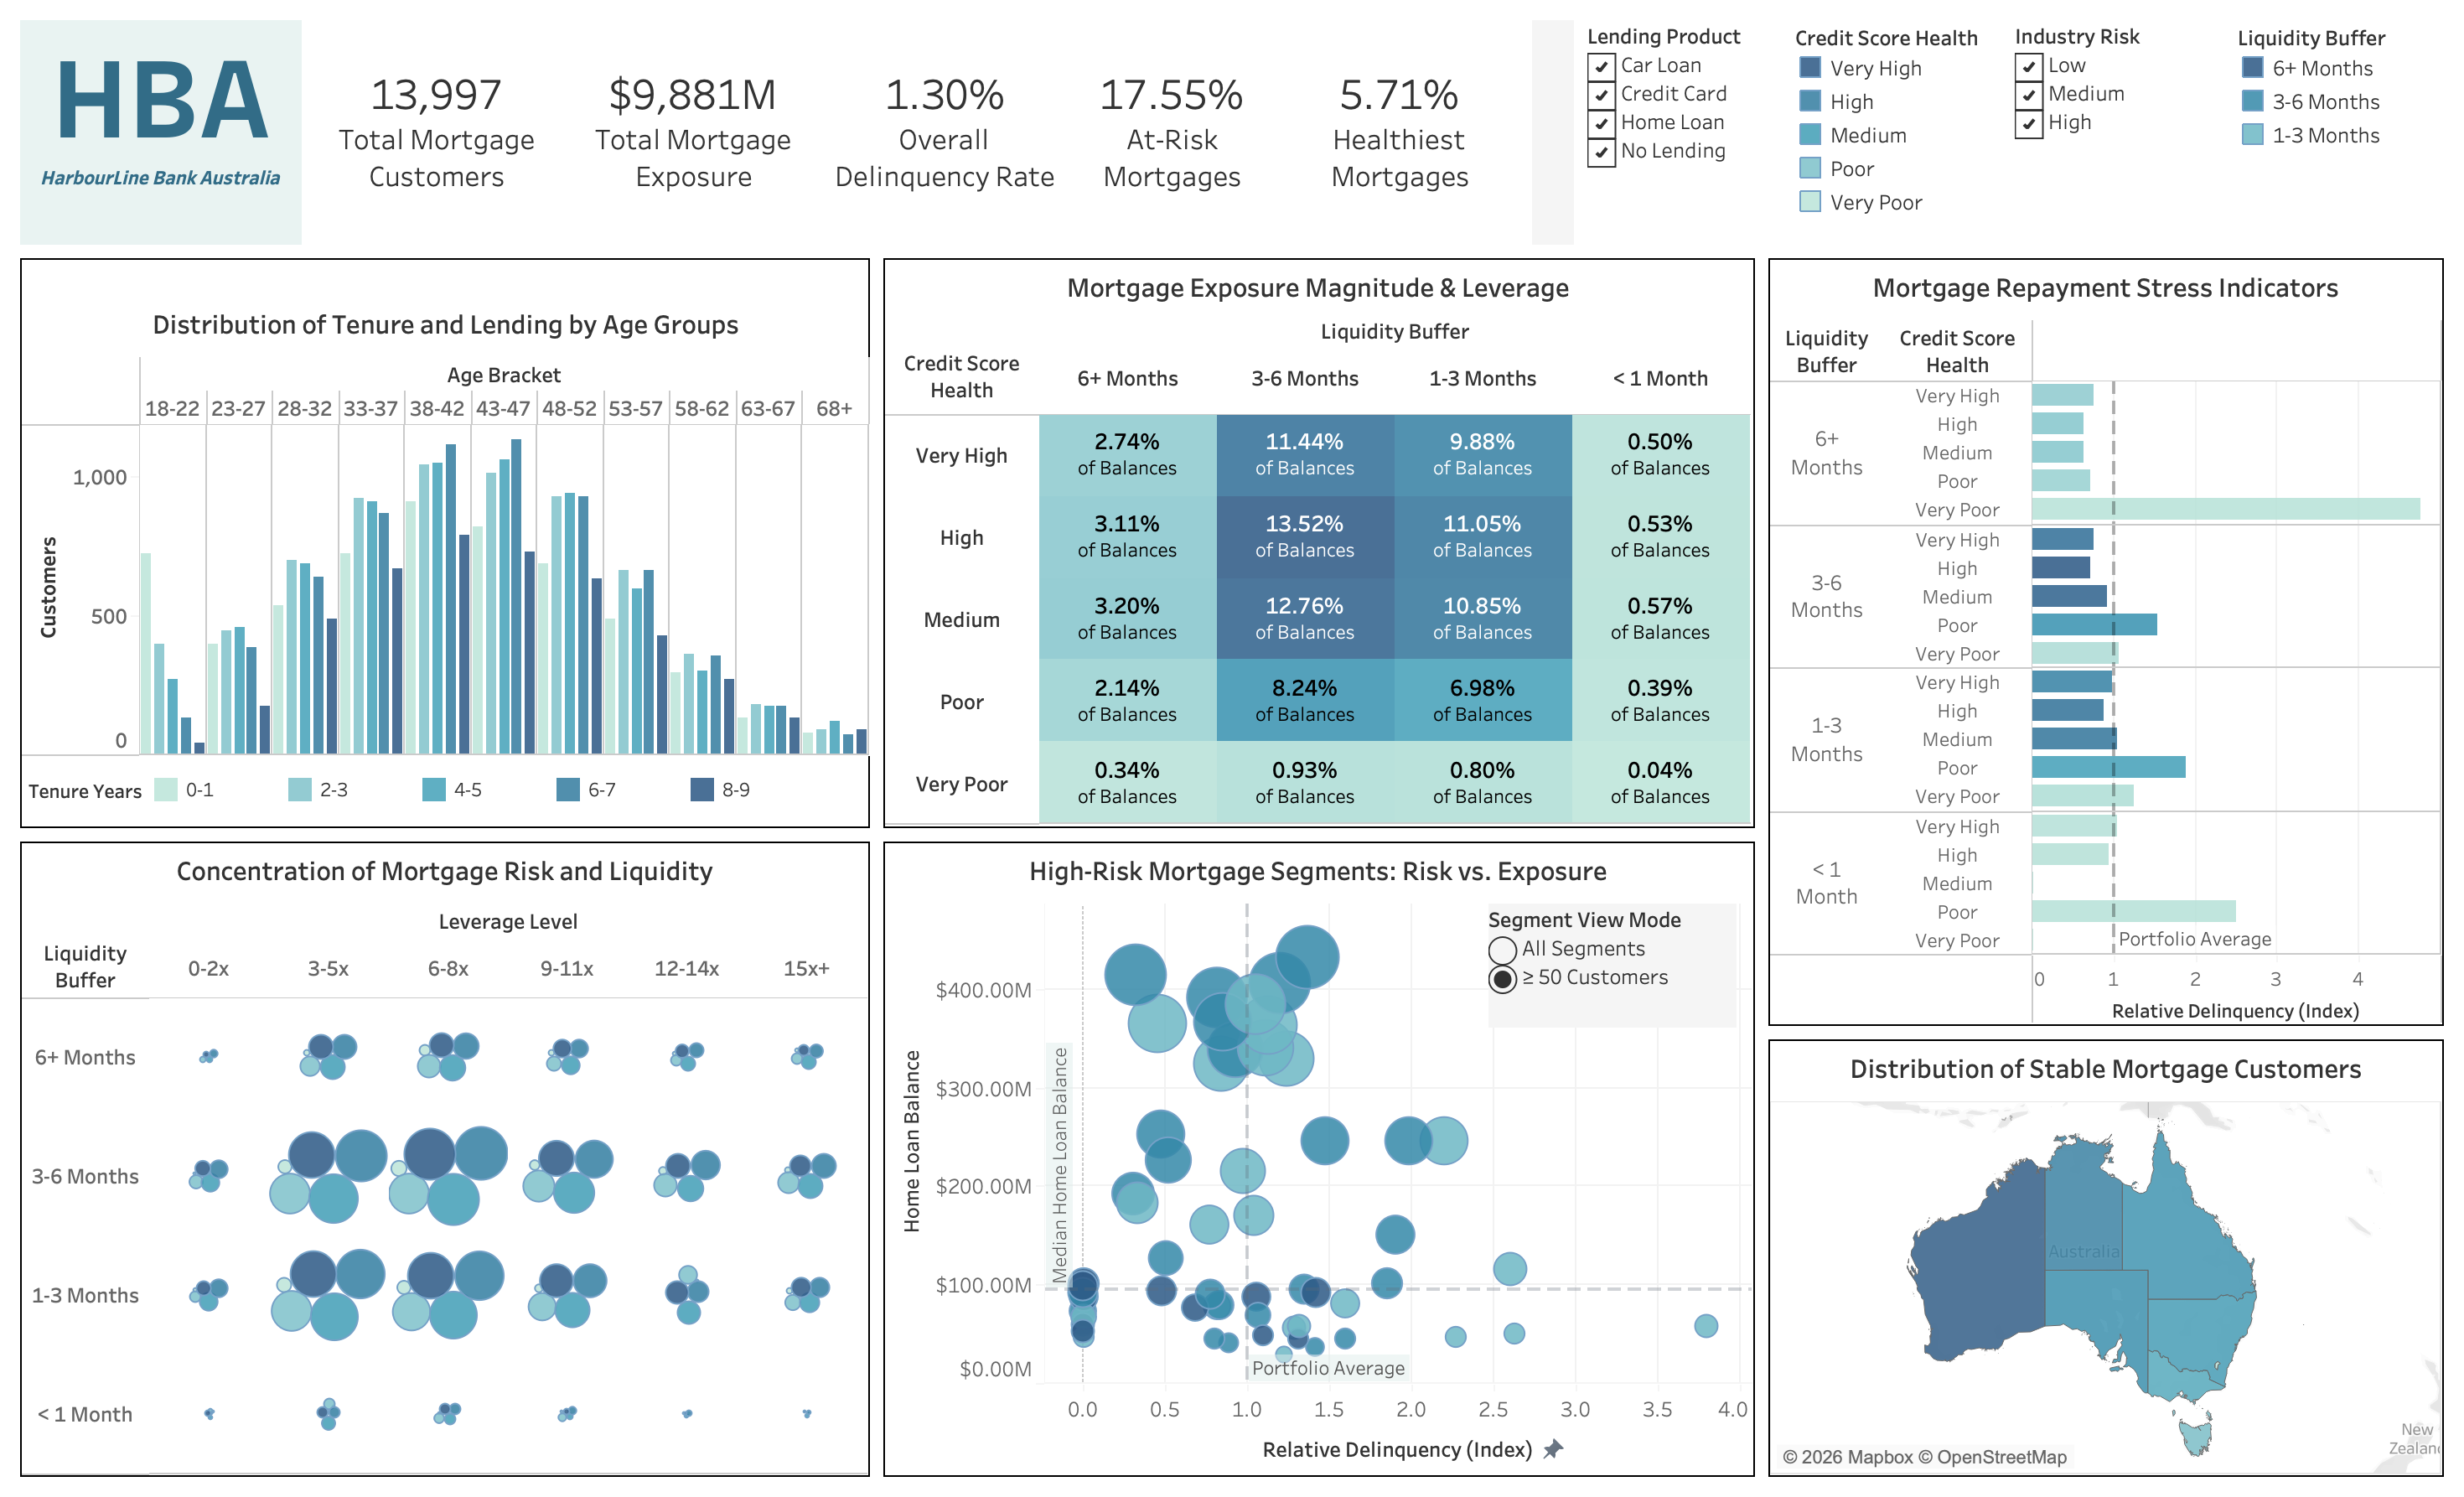

What the dashboard file says about the page in this screenshot:
{"tool":"tableau","page":{"name":"Dashboard 1","canvas":[1000,1000],"units":"permille","ordinal":0},"visuals":[{"type":"text","box":[5.5,11.2,119.9,175.8]},{"type":"worksheet","title":"Mortgage Customers","mark":"Automatic","box":[125.4,11.2,104.6,175.8]},{"type":"worksheet","title":"Total Mortgage Exposure","mark":"Automatic","box":[229.9,11.2,103.2,175.8]},{"type":"worksheet","title":"Overall Delinquency Rate","mark":"Automatic","box":[333.1,11.2,101.8,175.8]},{"type":"worksheet","title":"Risky","mark":"Automatic","box":[434.9,11.2,83.1,175.8]},{"type":"worksheet","title":"Stable Mortgage Customers","mark":"Automatic","box":[518,11.2,101.1,175.8]},{"type":"blank","box":[619.1,11.2,22.2,175.8]},{"type":"filter","title":"Distribution of Tenure and Lending by Age Groups","param":"[federated.0hi237i01j10bz194o49j176vj2p].[none:Calculation_5779406893178881:nk]","box":[641.2,11.2,83.8,175.8]},{"type":"legend","title":"Concentration of Mortgage Risk and Liquidity","param":"[federated.0hi237i01j10bz194o49j176vj2p].[none:Calculation_6729592075571200:nk]","box":[725,11.2,89.8,175.8]},{"type":"filter","title":"High-Risk Mortgage Segments: Risk vs. Exposure","param":"[federated.0hi237i01j10bz194o49j176vj2p].[none:Industry Risk:ok]","box":[814.8,11.2,89.8,175.8]},{"type":"legend","title":"High-Risk Mortgage Segments: Risk vs. Exposure","param":"[federated.0hi237i01j10bz194o49j176vj2p].[none:Calculation_6729592076996609:nk]","box":[904.6,11.2,89.8,175.8]},{"type":"blank","box":[5.5,187.1,350.5,369.9]},{"type":"worksheet","title":"Mortgage Exposure Magnitude & Leverage","mark":"Square","rows":["Calculation_6729592075571200"],"cols":["Calculation_6729592076996609"],"box":[356,187.1,358.6,369.9]},{"type":"worksheet","title":"Mortgage Repayment Stress Indicators","mark":"Automatic","rows":["Calculation_6729592076996609","Calculation_6729592075571200"],"box":[714.6,187.1,279.8,502]},{"type":"worksheet","title":"Distribution of Tenure and Lending by Age Groups","mark":"Bar","rows":["CustomerId"],"cols":["Calculation_1811818870714368","Tenure (bin)"],"box":[9,198.3,344.2,306.6]},{"type":"legend","title":"Distribution of Tenure and Lending by Age Groups","param":"[federated.0hi237i01j10bz194o49j176vj2p].[none:Tenure (bin):ok]","box":[11.8,516.2,337.3,28.1]},{"type":"worksheet","title":"Concentration of Mortgage Risk and Liquidity","mark":"Circle","rows":["Calculation_6729592076996609"],"cols":["Calculation_0347477378277392"],"box":[5.5,557,350.5,431.8]},{"type":"worksheet","title":"High-Risk Mortgage Segments: Risk vs. Exposure","mark":"Circle","rows":["Home loan Balance"],"cols":["Calculation_0347477257351172"],"box":[356,557,358.6,431.8]},{"type":"parameter","param":"[Parameters].[Parameter 2]","box":[603.9,603.4,101.1,83]},{"type":"worksheet","title":"Distribution of Stable Mortgage Customers","mark":"Multipolygon","box":[714.6,689,279.8,299.7]}]}

Visuals, with their boxes on the dashboard's canvas, which has no fixed pixel size, in thousandths of its width and height (x1, y1, x2, y2). These are canvas units, not pixel positions in the 2464x1497 screenshot, which may show the page scaled, cropped or inside an application window:
text: (6, 11, 125, 187)
"Mortgage Customers" worksheet: (125, 11, 230, 187)
"Total Mortgage Exposure" worksheet: (230, 11, 333, 187)
"Overall Delinquency Rate" worksheet: (333, 11, 435, 187)
"Risky" worksheet: (435, 11, 518, 187)
"Stable Mortgage Customers" worksheet: (518, 11, 619, 187)
blank: (619, 11, 641, 187)
"Distribution of Tenure and Lending by Age Groups" filter: (641, 11, 725, 187)
"Concentration of Mortgage Risk and Liquidity" legend: (725, 11, 815, 187)
"High-Risk Mortgage Segments: Risk vs. Exposure" filter: (815, 11, 905, 187)
"High-Risk Mortgage Segments: Risk vs. Exposure" legend: (905, 11, 994, 187)
blank: (6, 187, 356, 557)
"Mortgage Exposure Magnitude & Leverage" worksheet (Square marks): (356, 187, 715, 557)
"Mortgage Repayment Stress Indicators" worksheet: (715, 187, 994, 689)
"Distribution of Tenure and Lending by Age Groups" worksheet (Bar marks): (9, 198, 353, 505)
"Distribution of Tenure and Lending by Age Groups" legend: (12, 516, 349, 544)
"Concentration of Mortgage Risk and Liquidity" worksheet (Circle marks): (6, 557, 356, 989)
"High-Risk Mortgage Segments: Risk vs. Exposure" worksheet (Circle marks): (356, 557, 715, 989)
parameter: (604, 603, 705, 686)
"Distribution of Stable Mortgage Customers" worksheet (Multipolygon marks): (715, 689, 994, 989)
